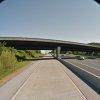Bridge: (4, 28, 92, 59)
